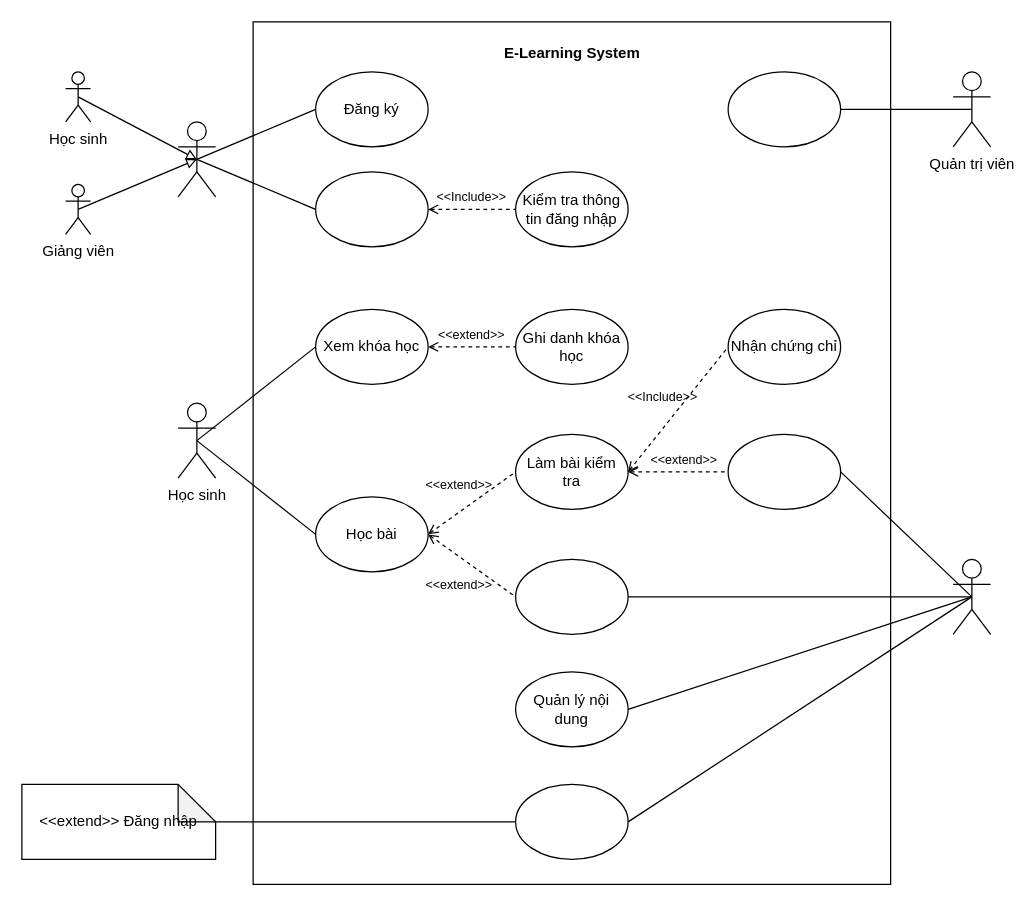
The diagram is 1036 pixels wide and 906 high, and some of its shapes have lost their labels. Each missing label, with the centre of its shape:
"Chấm điểm" goes at point (784, 471).
"Giáo viên" goes at point (971, 596).
"Gửi phản hồi" goes at point (571, 596).
"Người dùng" goes at point (196, 159).
"Quản trị hệ thống" goes at point (784, 109).
"Tạo khóa học" goes at point (571, 821).
"Đăng nhập" goes at point (371, 209).
